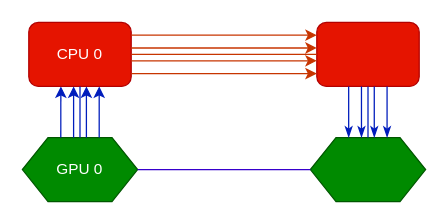
The diagram is 448 pixels wide and 224 high, and some of its shapes have lost their labels. Here are the shapes that lost their labels. From the top down, the centre of each, then its label:
At (x=367, y=53): "CPU 1".
At (x=367, y=169): "GPU 1".
